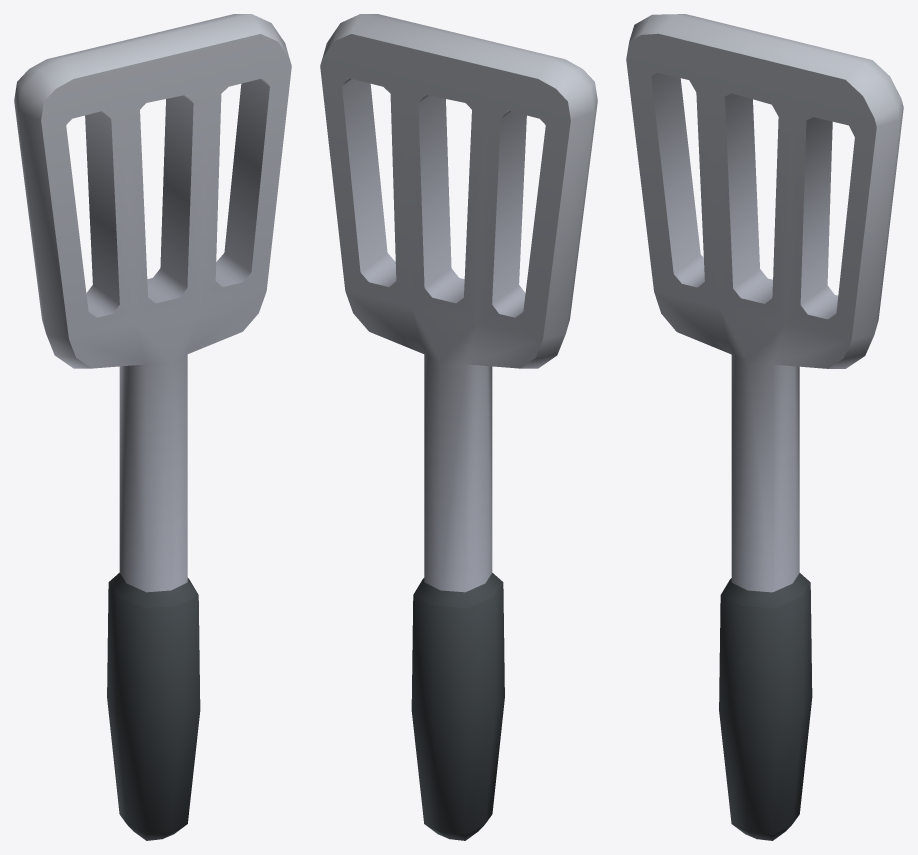
Rendered from Spatula.glb.
3 renders of one model, left to right at view 1: azimuth 30°, elevation 25°; view 2: azimuth 150°, elevation 25°; view 3: azimuth 330°, elevation 25°, orthographic.
Visible parts, largest first — view 1: spatula; view 2: spatula; view 3: spatula.
Part boxes in pixels (x1,y1,x2,y2): spatula: (14,14,291,840); spatula: (320,14,597,840); spatula: (626,14,903,840).
Size of the model in its own units: 0.2908 by 0.8233 by 0.0908.
Materials: 1 (1 with a texture image).
